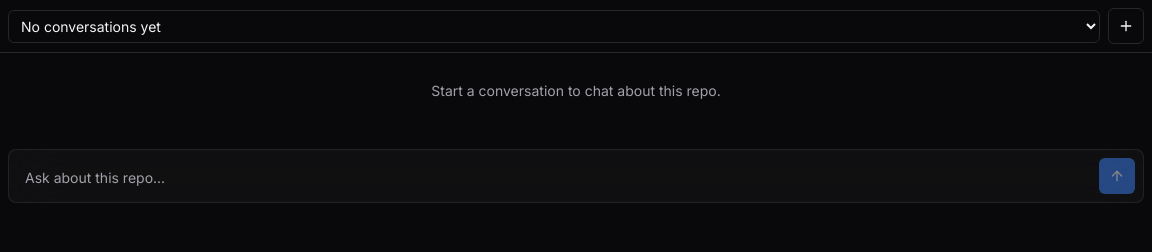
Test: ChatPanel error handling › surfaces an error instead of silently doing nothing when creating a new conversation fails
Click the button named "new conversation": (1126, 26) [1108,8,1144,44]
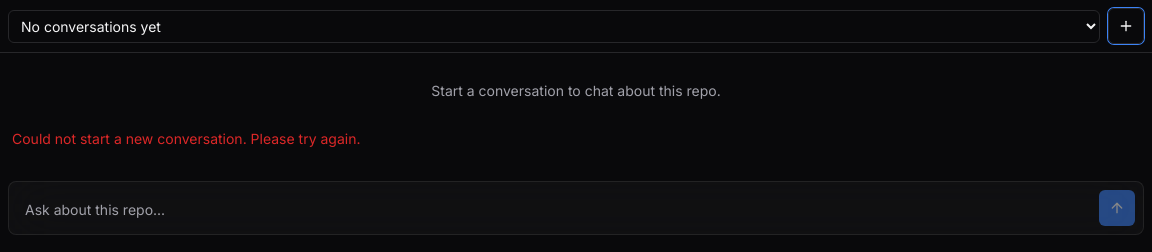
Expected: the text "Could not start a new conversation. Please try again." is shown, [12,129,360,149]
